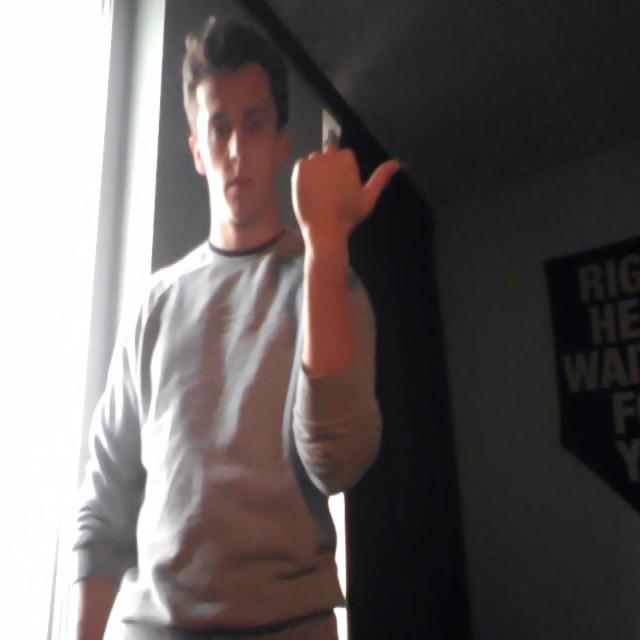right: (277, 133, 411, 258)
